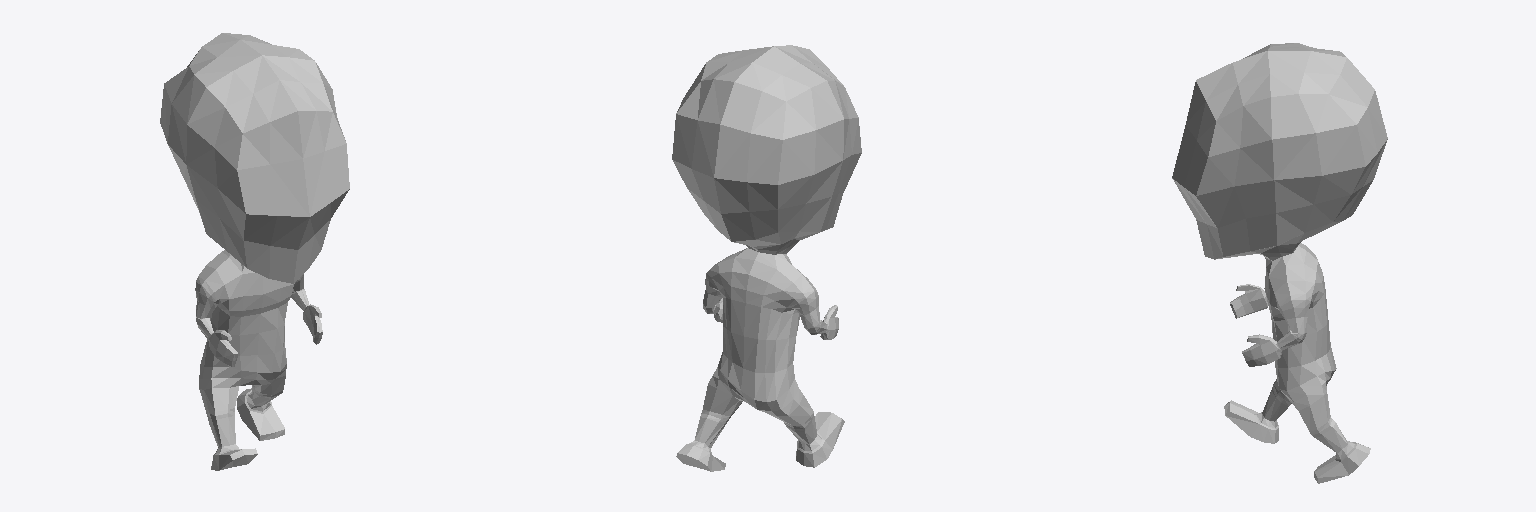
The model's file is char_000004.obj.
3 renders of one model, left to right at view 1: azimuth 30°, elevation 25°; view 2: azimuth 150°, elevation 25°; view 3: azimuth 270°, elevation 25°, orthographic.
Visible parts, largest first — view 1: lp_guy_mesh_Cube; view 2: lp_guy_mesh_Cube; view 3: lp_guy_mesh_Cube.
Boxes of the visible parts, x1,y1,x2,y2 form: lp_guy_mesh_Cube: [160, 33, 349, 470]; lp_guy_mesh_Cube: [672, 45, 861, 471]; lp_guy_mesh_Cube: [1172, 43, 1387, 483].
Size of the model in its own units: 0.7344 by 1.98 by 0.9444.